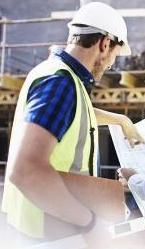gloves: (1, 1, 1, 1)
hard-hat: (67, 0, 131, 55)
vest: (0, 47, 100, 239)
